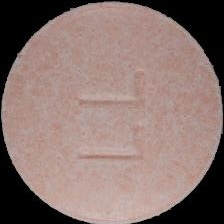68788-9808: (0, 0, 224, 224)
